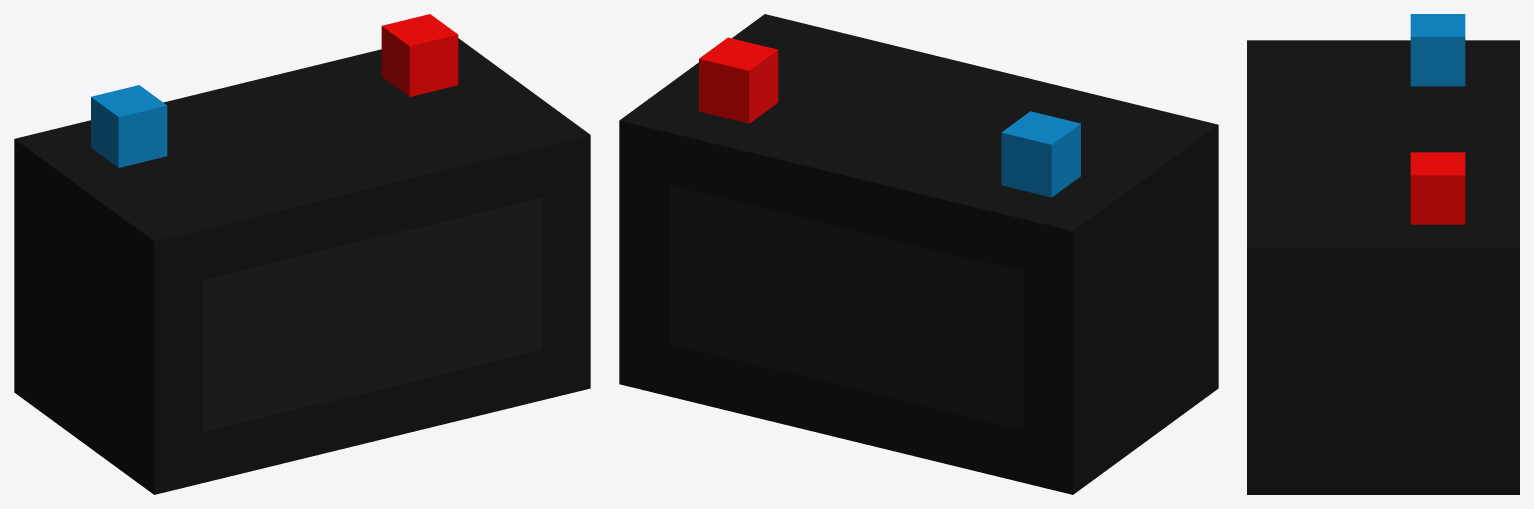
Rendered from car_battery.dae.
3 views of the same model, side by side, from view 1: azimuth 30°, elevation 25°; view 2: azimuth 150°, elevation 25°; view 3: azimuth 270°, elevation 25° (orthographic). The views are drawn at different scales.
Parts seen in each view (by area): view 1: car_battery; view 2: car_battery; view 3: car_battery.
Part boxes in pixels (x1,y1,x2,y2): car_battery: [14, 14, 590, 494]; car_battery: [619, 14, 1218, 494]; car_battery: [1247, 14, 1519, 494].
Bounding box in the file's own units: 0.9 × 0.6 × 0.5.
Materials: 1 (1 with a texture image).
